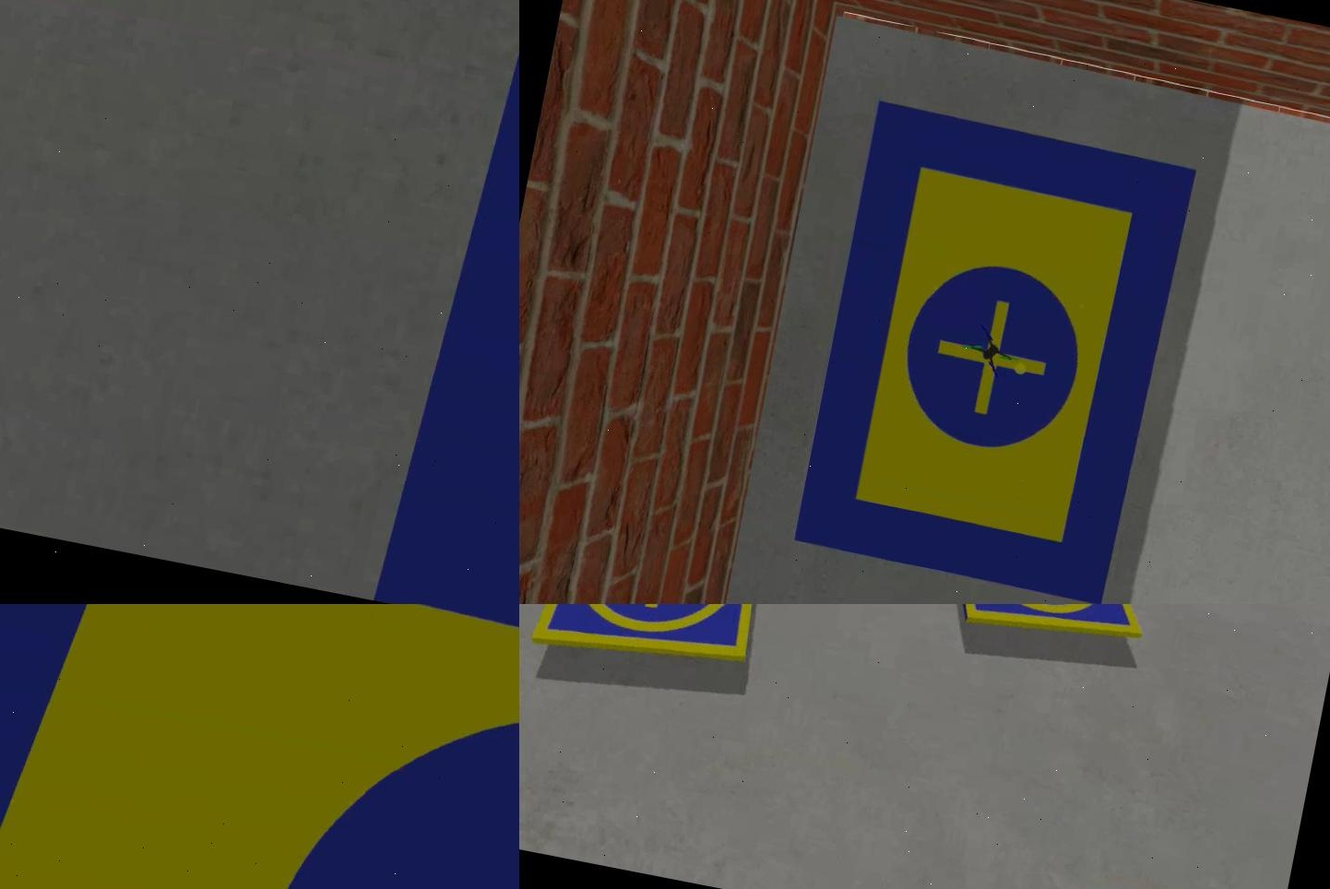large_base: (787, 100, 1196, 605), (0, 605, 517, 889), (364, 1, 517, 605)
small_base: (525, 605, 775, 683), (921, 605, 1164, 657)
